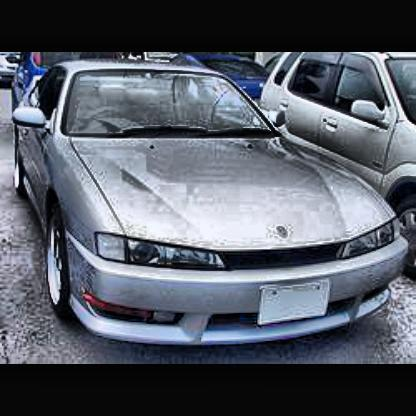Nissan 240SX Coupe 1998: (11, 62, 408, 351)
